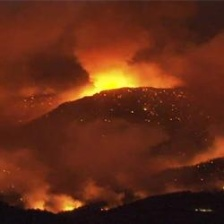fire: (57, 54, 184, 98), (11, 176, 93, 214)
